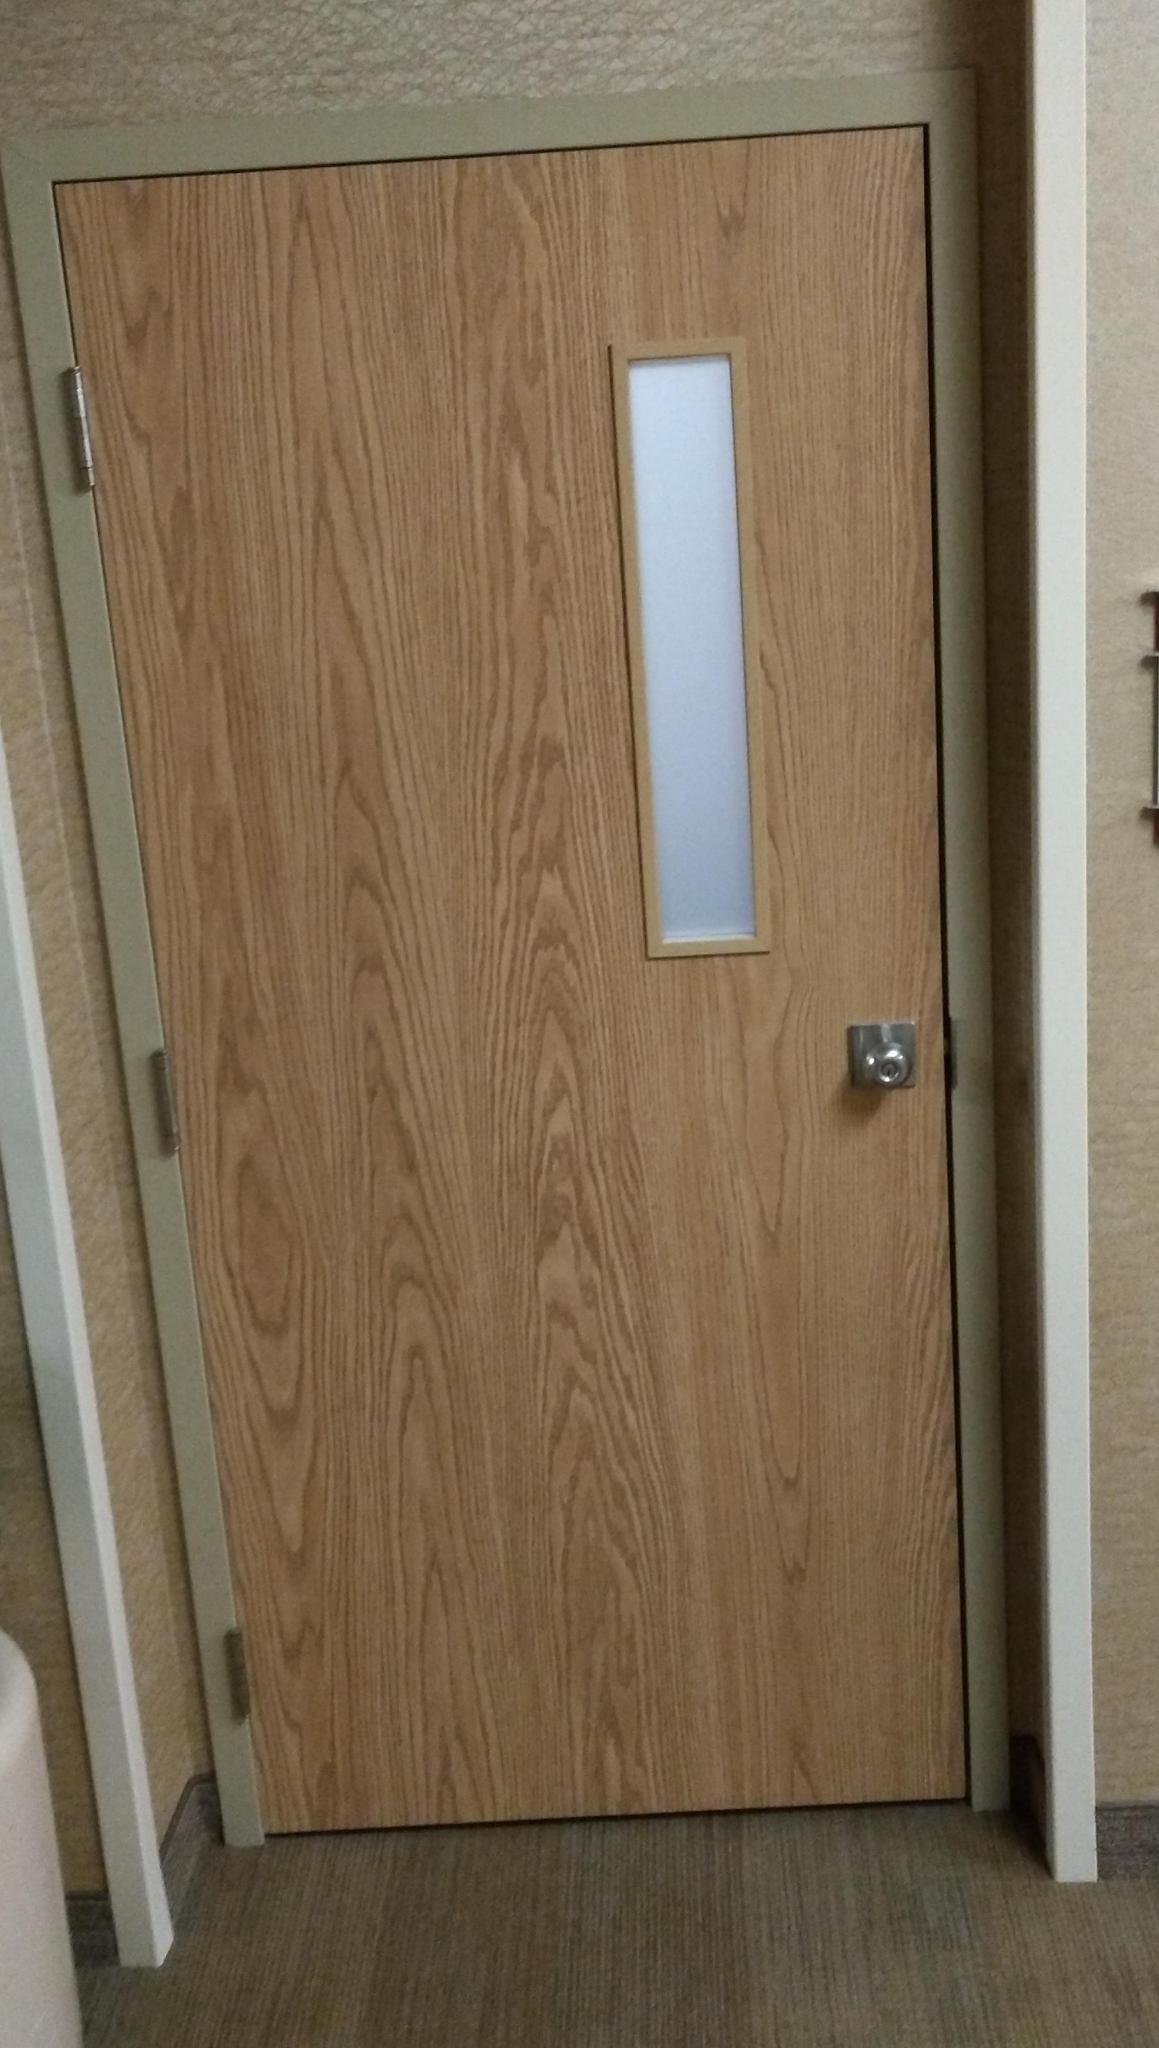door: (252, 162, 927, 1834)
handle: (852, 1018, 921, 1120)
